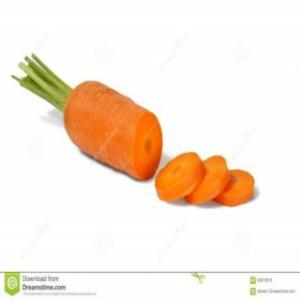carrot: (61, 76, 164, 184)
